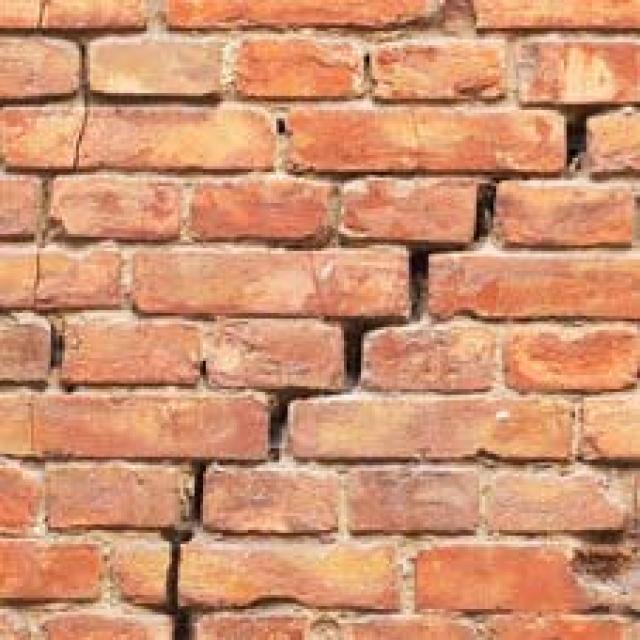Crack: (127, 93, 640, 639)
